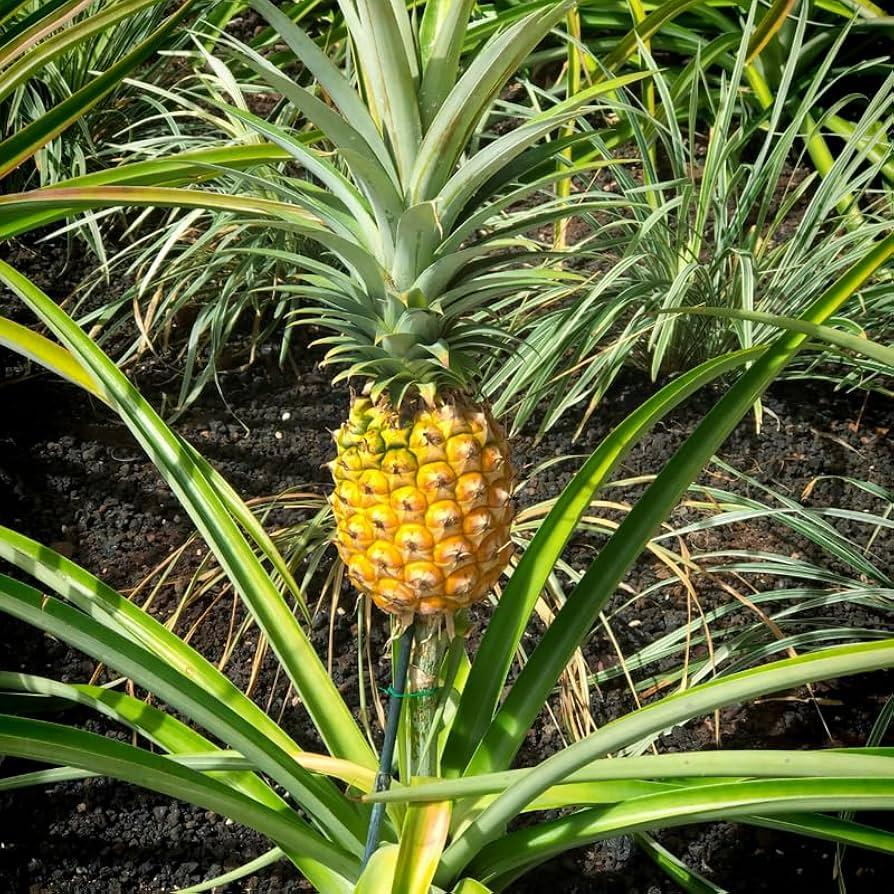pineapple: (177, 0, 592, 639)
